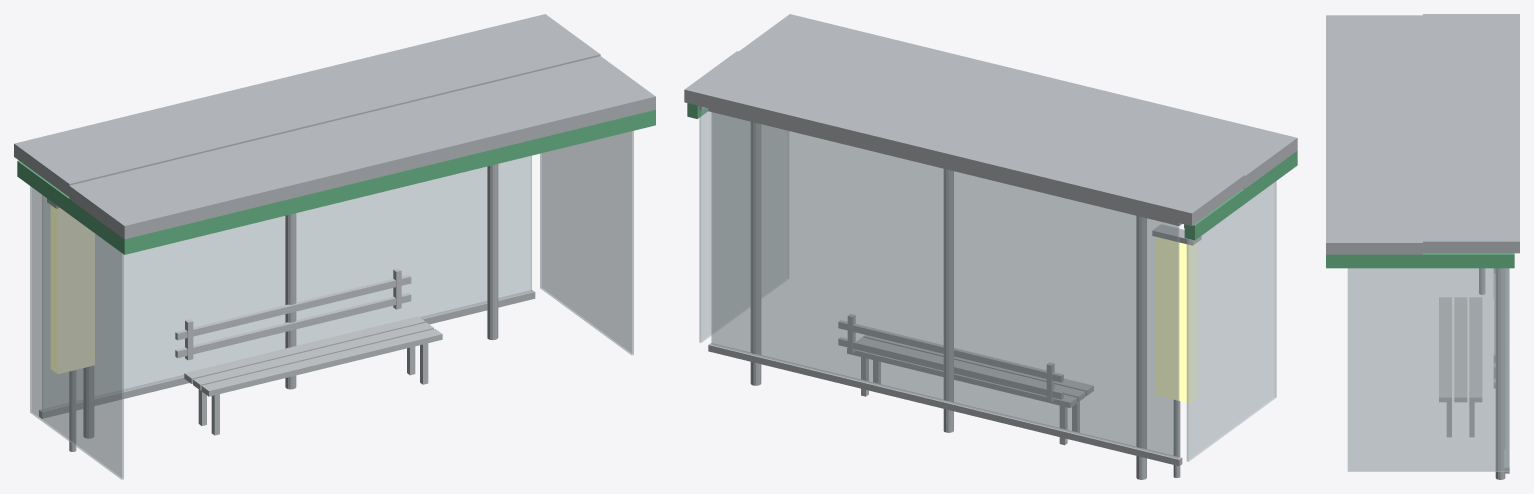
Rendered from bus_stop.glb.
The picture shows the model from 3 angles, left to right: view 1: azimuth 30°, elevation 25°; view 2: azimuth 150°, elevation 25°; view 3: azimuth 270°, elevation 25°; orthographic projection. The views are drawn at different scales.
Parts seen in each view (by area): view 1: BusStop; view 2: BusStop; view 3: BusStop.
Boxes of the visible parts, bbox=[...] form: BusStop: bbox=[14, 14, 655, 479]; BusStop: bbox=[684, 14, 1297, 479]; BusStop: bbox=[1326, 14, 1519, 479].
Bounding box in the file's own units: 0.5 × 0.27 × 0.18.
